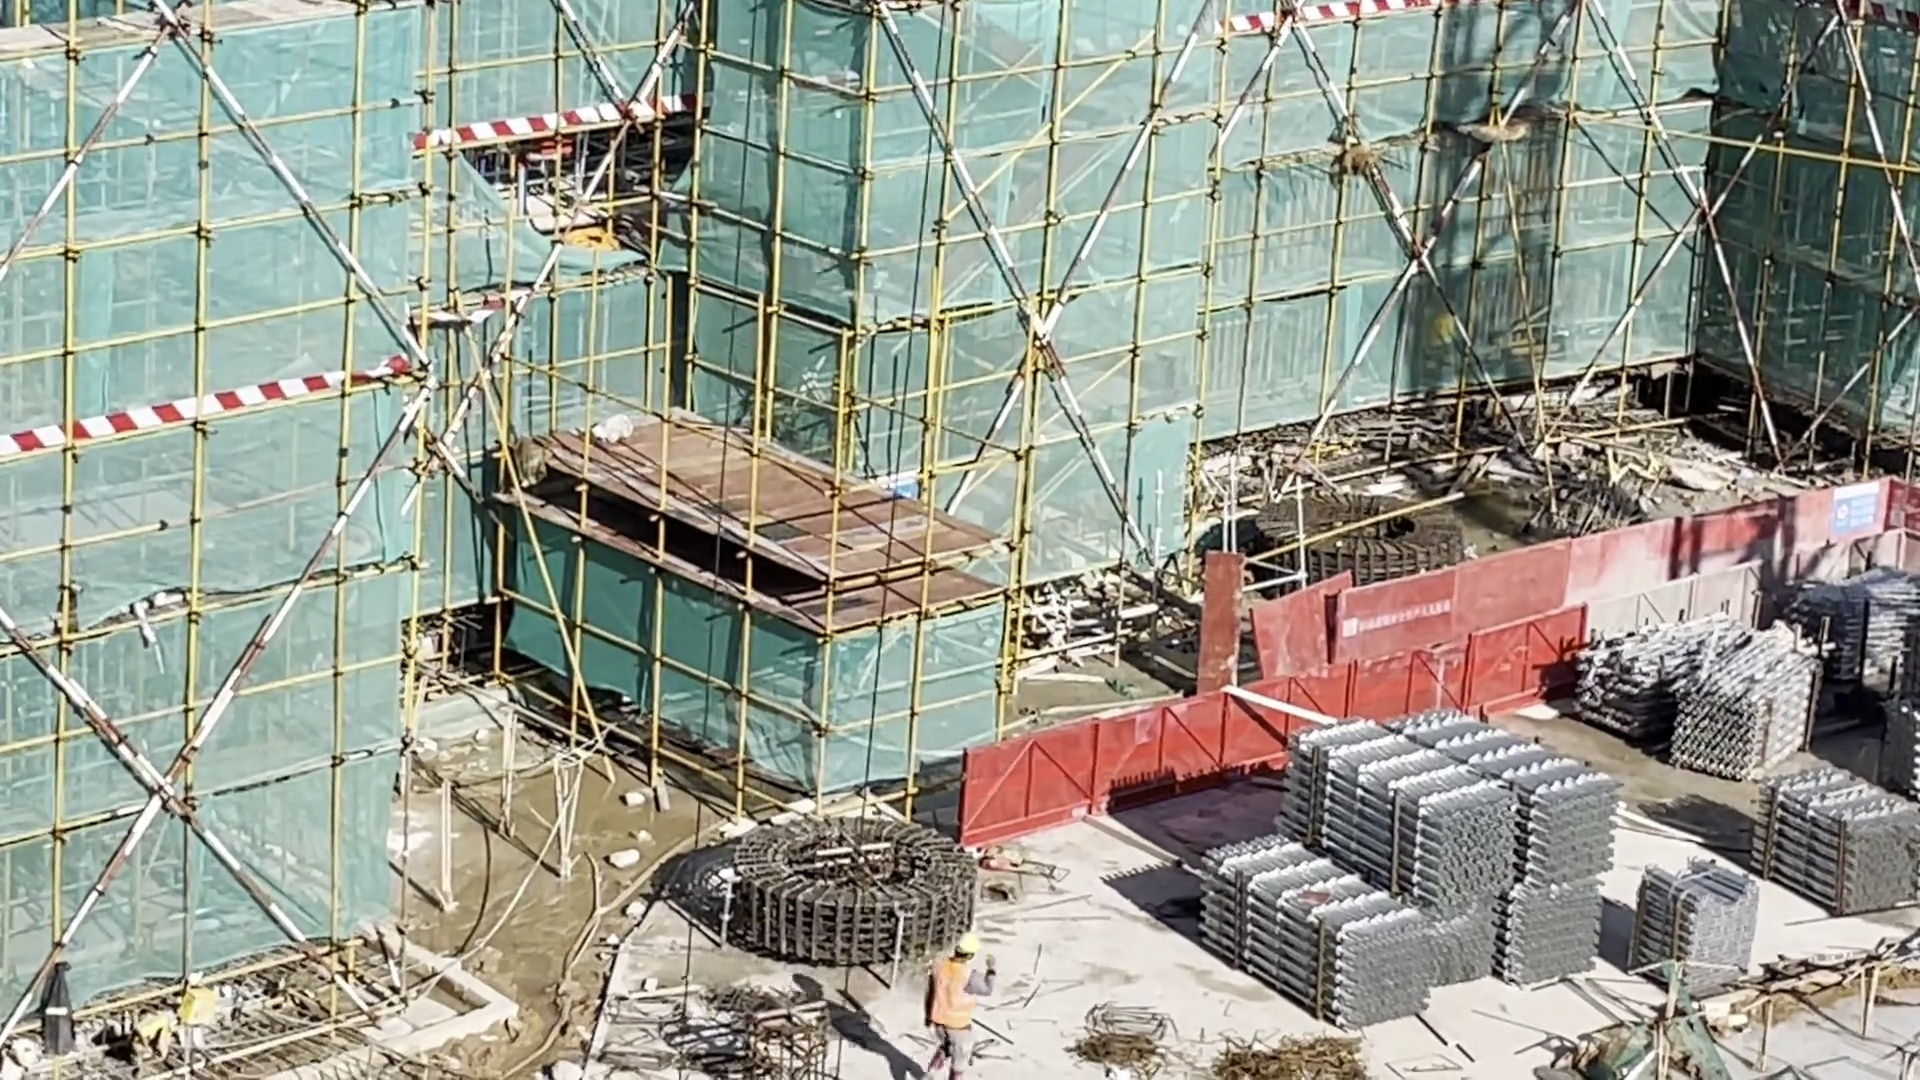fence: (958, 528, 1911, 842)
helmet: (943, 921, 989, 961)
person: (916, 928, 1004, 1080)
scaffold: (1205, 703, 1621, 1014), (1582, 616, 1816, 767), (1735, 772, 1920, 925), (1626, 843, 1767, 995), (1803, 568, 1920, 695)
vest: (934, 958, 974, 1031)
